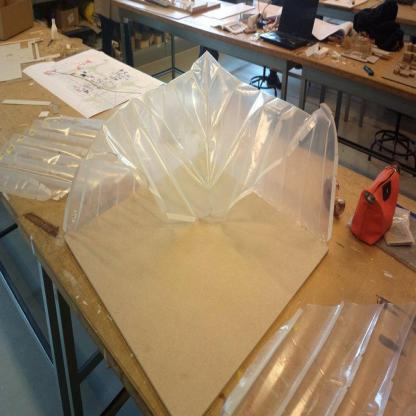board: (261, 0, 318, 52)
